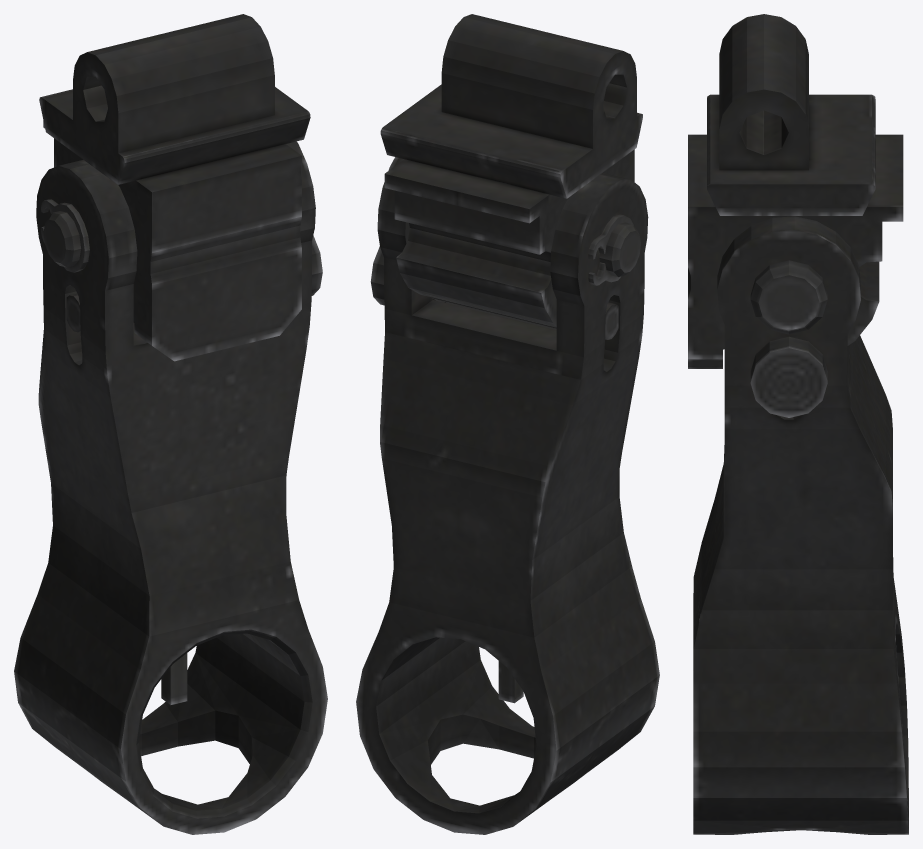
3 views of the same model, side by side, from view 1: azimuth 30°, elevation 25°; view 2: azimuth 150°, elevation 25°; view 3: azimuth 270°, elevation 25° (orthographic). The views are drawn at different scales.
Visible parts, largest first — view 1: TW_61816fcad92c473c770215cc_PZ_Import; view 2: TW_61816fcad92c473c770215cc_PZ_Import; view 3: TW_61816fcad92c473c770215cc_PZ_Import.
Part boxes in pixels (<box>): TW_61816fcad92c473c770215cc_PZ_Import: <box>14,14,327,834</box>; TW_61816fcad92c473c770215cc_PZ_Import: <box>356,14,659,834</box>; TW_61816fcad92c473c770215cc_PZ_Import: <box>688,14,908,834</box>.
Bounding box in the file's own units: 0.0126 × 0.00981 × 0.0375.
1 material, 1 textured.
